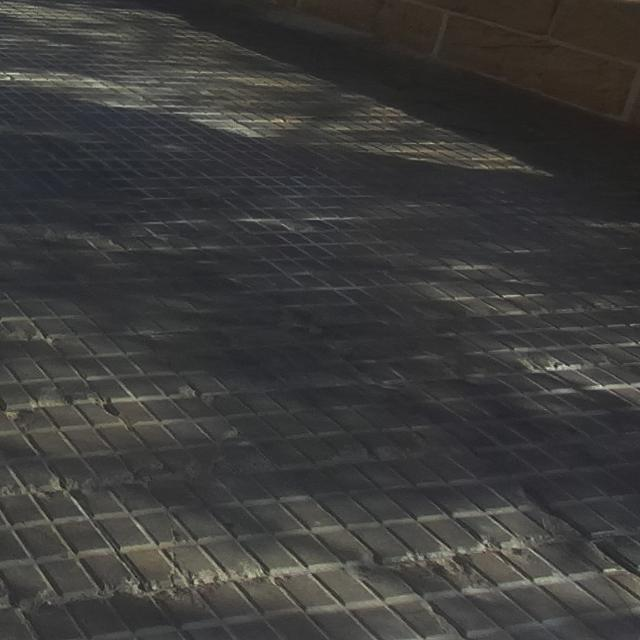calcada_quebrada: (353, 530, 567, 593), (134, 549, 282, 605), (0, 569, 131, 624), (0, 383, 119, 436), (326, 431, 458, 467), (110, 450, 216, 494), (569, 529, 640, 593), (0, 464, 107, 506), (511, 474, 583, 529), (216, 438, 327, 472), (0, 317, 69, 351), (512, 345, 581, 377), (150, 498, 191, 548), (179, 381, 223, 412), (582, 345, 626, 372)
